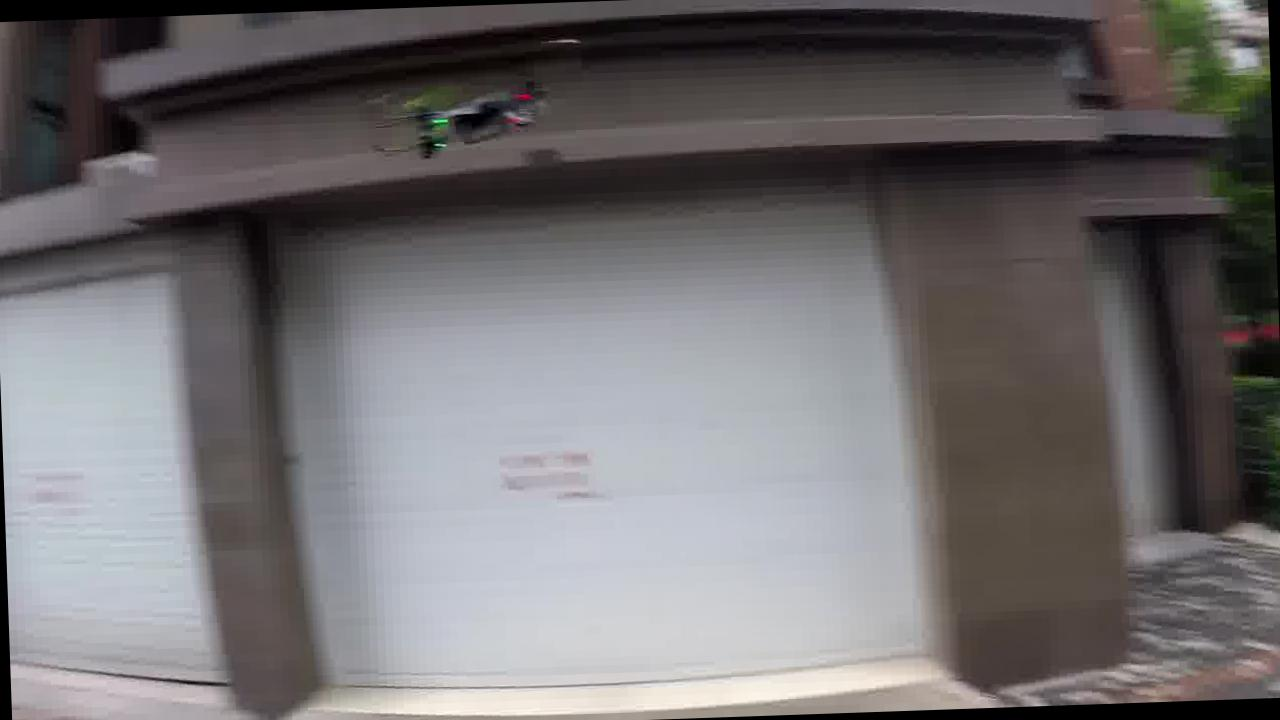drone: (352, 27, 588, 174)
